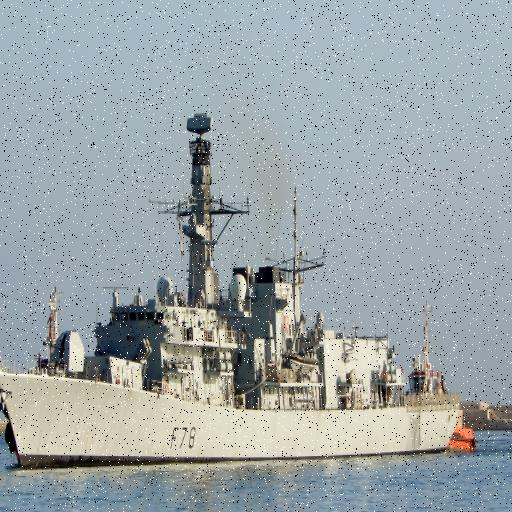Fragata: (1, 110, 465, 471)
